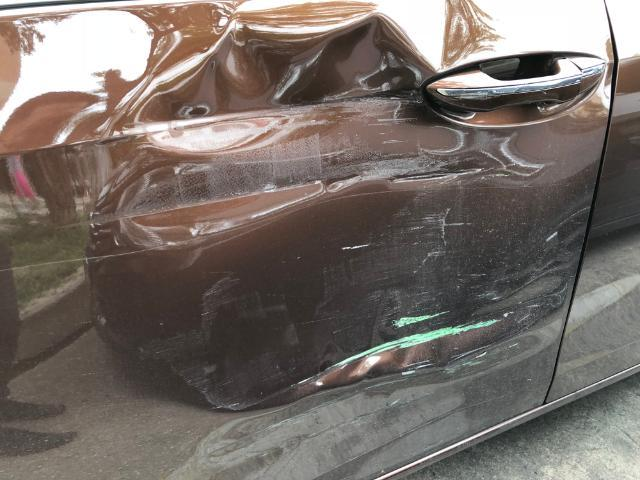dent: (114, 16, 517, 250), (311, 323, 510, 387)
scratch: (133, 179, 570, 413)
